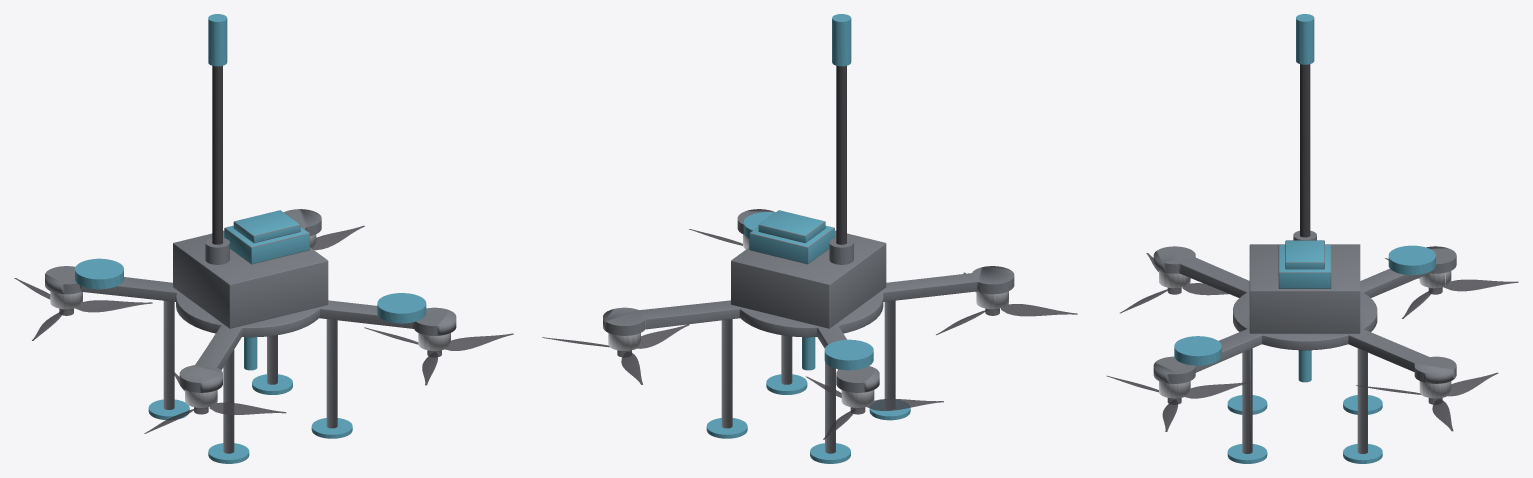
The model's file is pollux.glb.
3 renders of one model, left to right at view 1: azimuth 30°, elevation 25°; view 2: azimuth 150°, elevation 25°; view 3: azimuth 270°, elevation 25°, orthographic. The views are drawn at different scales.
Visible parts, largest first — view 1: Pollux V1; view 2: Pollux V1; view 3: Pollux V1.
Part boxes in pixels (x1,y1,x2,y2): Pollux V1: (14,14,513,463); Pollux V1: (542,14,1077,463); Pollux V1: (1106,14,1518,463).
Bounding box in the file's own units: 0.3216 × 0.3332 × 0.3133.
